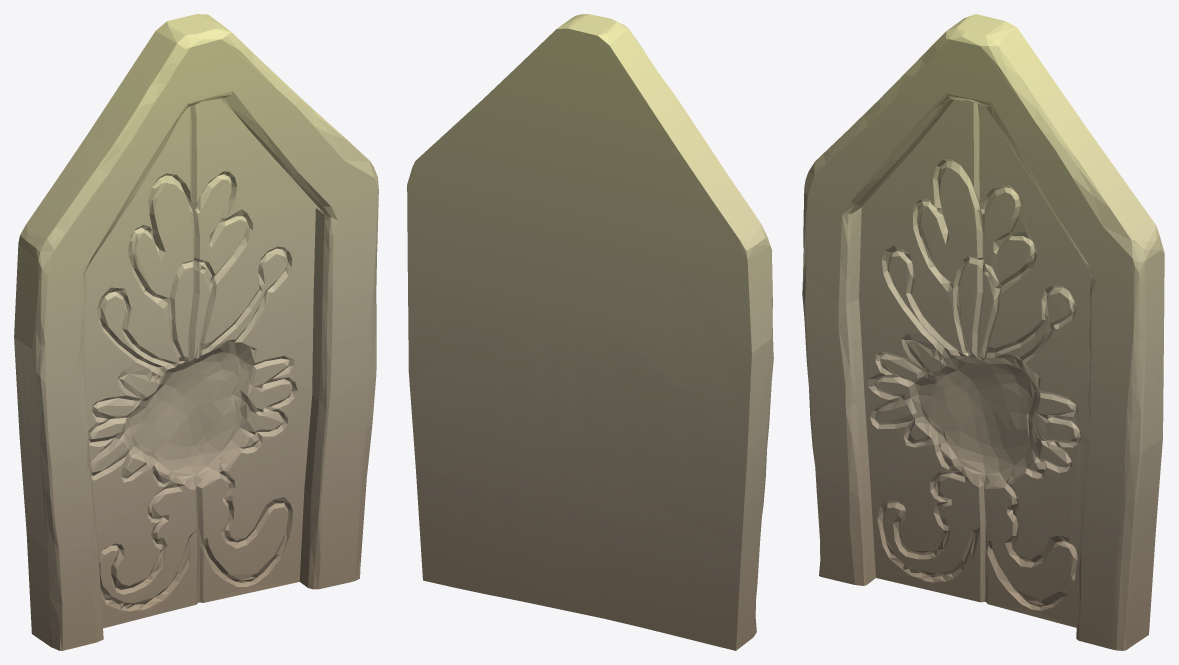
File: SM_Door_01.fbx
3 renders of one model, left to right at view 1: azimuth 30°, elevation 25°; view 2: azimuth 150°, elevation 25°; view 3: azimuth 330°, elevation 25°, orthographic.
Parts seen in each view (by area): view 1: pCube267; view 2: pCube267; view 3: pCube267.
Part boxes in pixels (x1,y1,x2,y2): pCube267: (14,14,378,650); pCube267: (407,14,773,650); pCube267: (802,14,1164,650).
Bounding box in the file's own units: 194 × 314 × 26.5.
